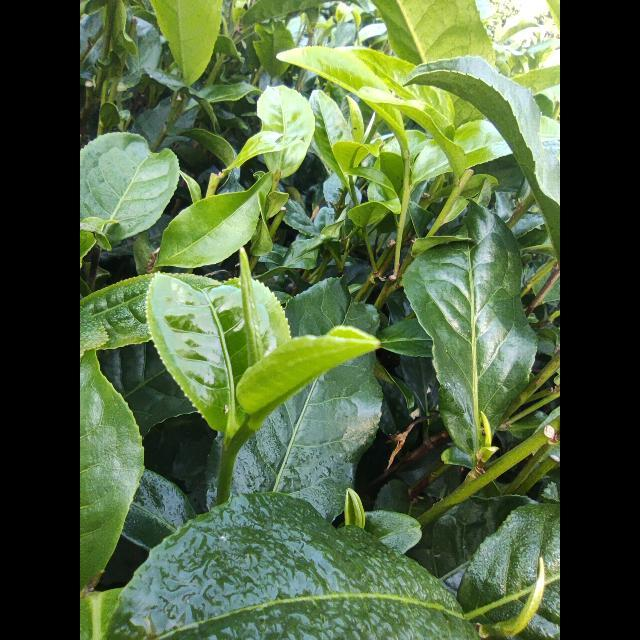Stem: (221, 446, 236, 464)
